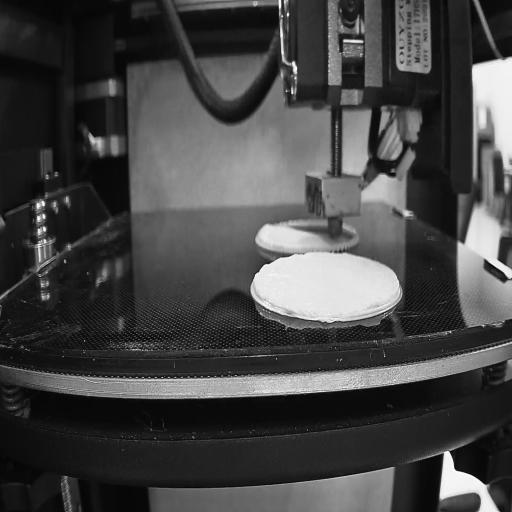over_extrusion: (366, 276, 401, 315), (253, 262, 268, 302)
